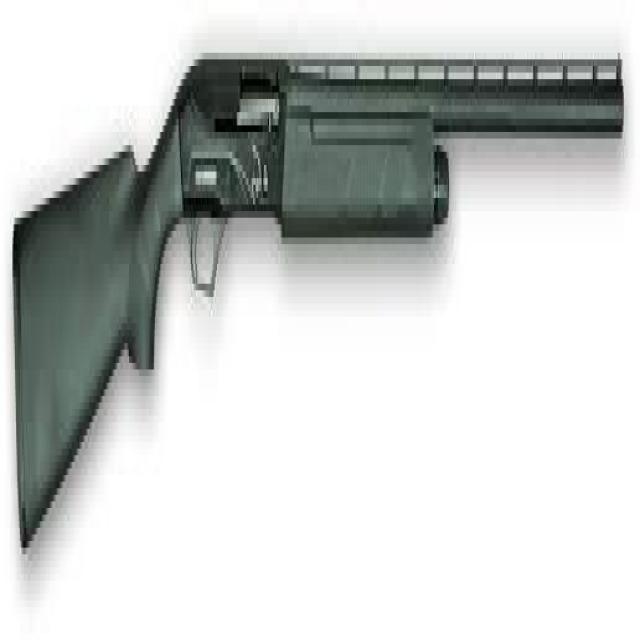rifle: (12, 29, 631, 564)
